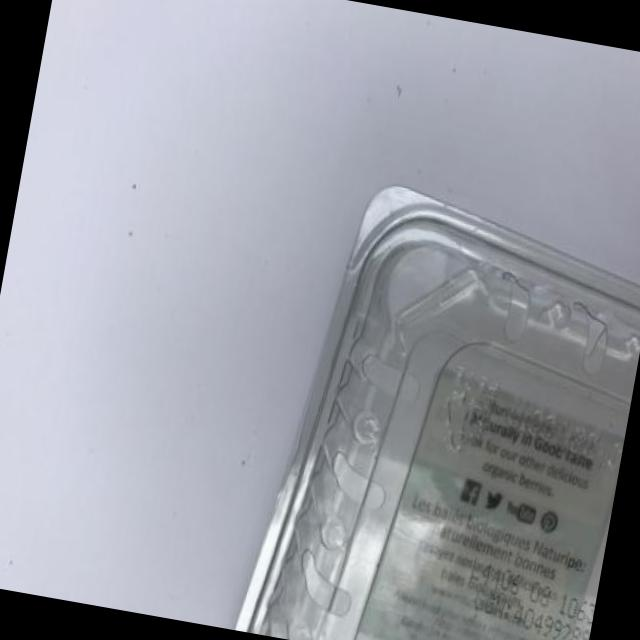Recycle: (229, 151, 640, 640)
